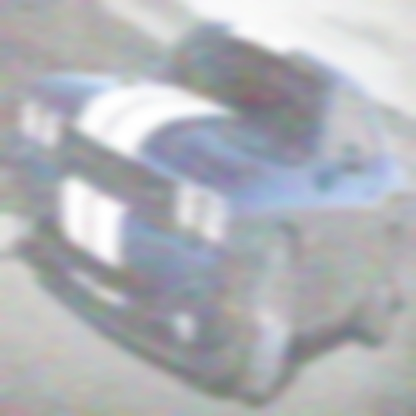Vehicle: (9, 22, 412, 405)
